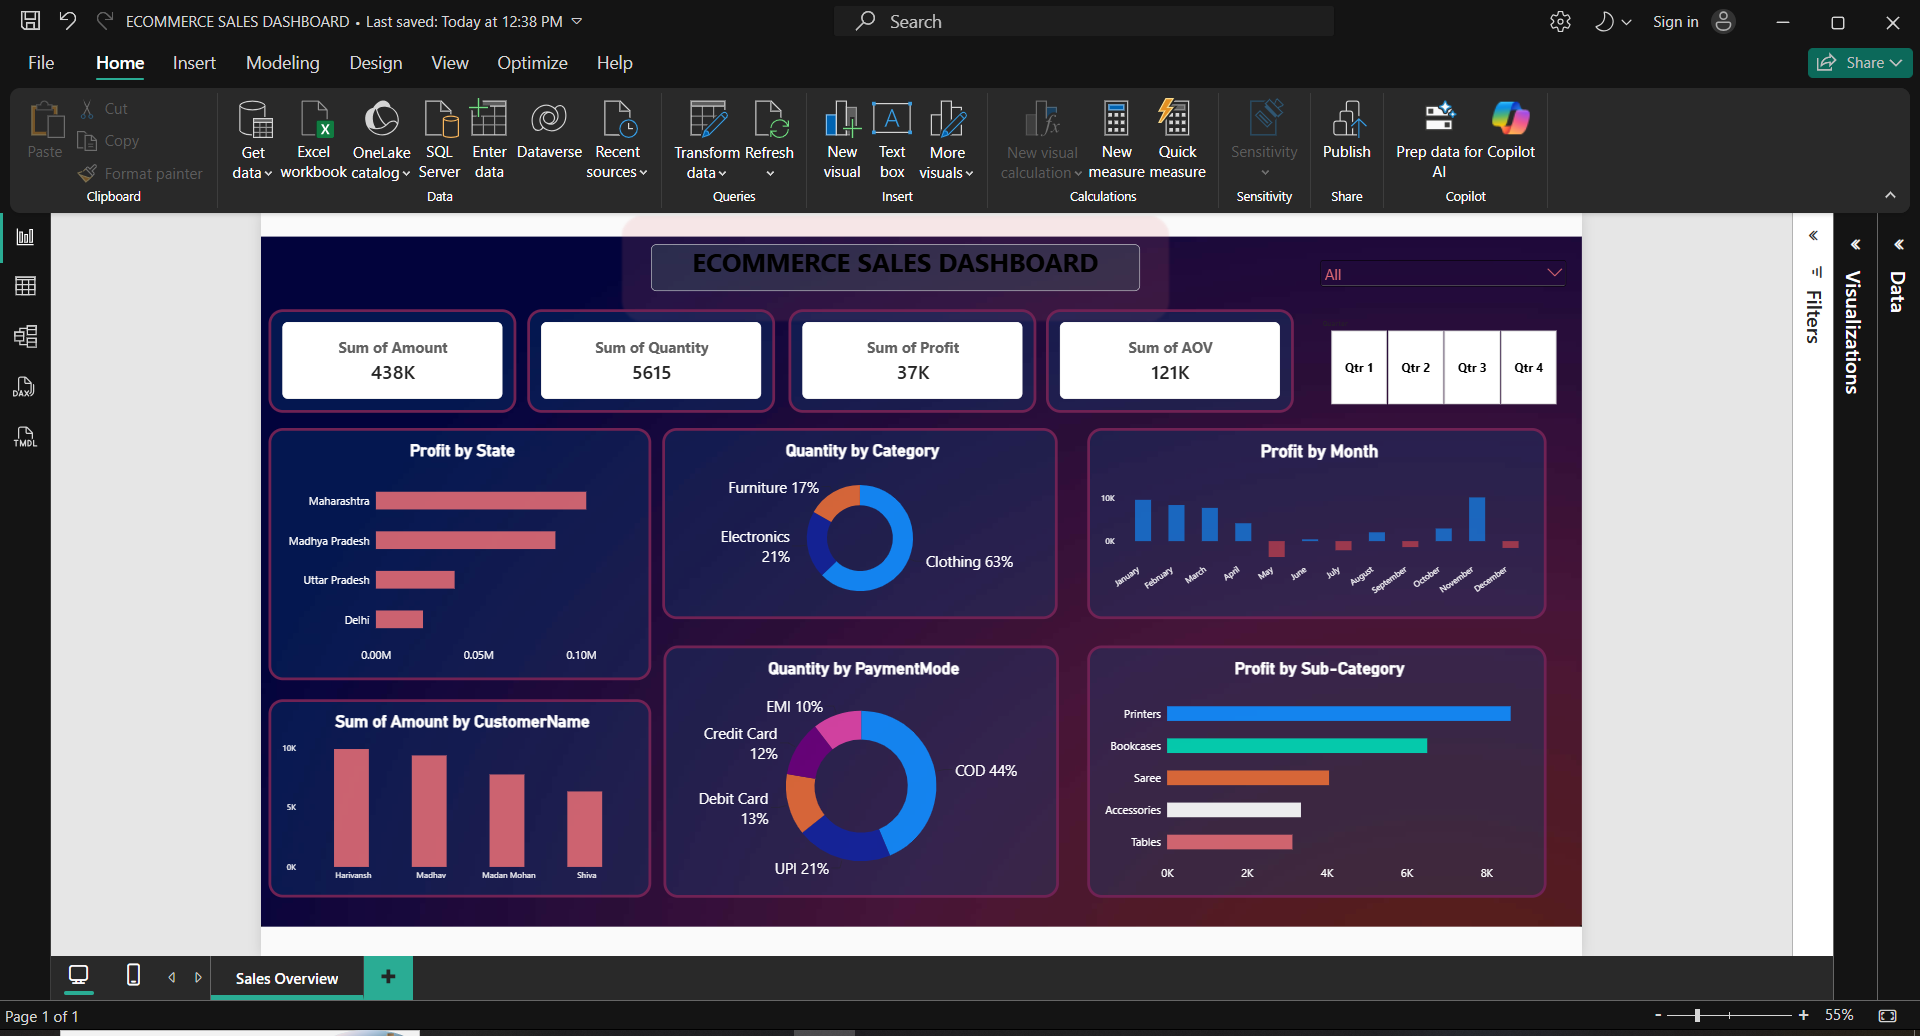

The page's visual inventory and layout, read from the dashboard file:
{"tool":"powerbi","page":{"name":"Sales Overview","canvas":[1920,1080],"ordinal":0},"visuals":[{"type":"textbox","box":[10.9,0,457.6,279.6],"z":0},{"type":"textbox","box":[566,45.3,710.1,67.9],"z":1000},{"type":"columnChart","title":" Profit by Month","fields":{"Category":["Orders.Order Date.Variation.Date Hierarchy.Month"],"Y":["Sum(Details.Profit)"]},"box":[1200,312.9,666.9,277.9],"z":2000},{"type":"clusteredBarChart","title":"Profit by Sub-Category","fields":{"Category":["Details.Sub-Category"],"Y":["Sum(Details.Profit)"]},"box":[1200,627.8,666.9,366.4],"z":3000},{"type":"donutChart","title":"Quantity by Category","fields":{"Category":["Details.Category"],"Y":["Sum(Details.Quantity)"]},"box":[582.5,312.9,574.3,277.9],"z":4000},{"type":"donutChart","title":"Quantity by PaymentMode","fields":{"Category":["Details.PaymentMode"],"Y":["Sum(Details.Quantity)"]},"box":[584.6,627.8,574.3,366.4],"z":5000},{"type":"cardVisual","fields":{"Data":["Sum(Details.Amount)"]},"box":[10.3,140,360.2,150.3],"z":6000},{"type":"cardVisual","fields":{"Data":["Sum(Details.Quantity)"]},"box":[387,140,360.2,150.3],"z":7000},{"type":"cardVisual","fields":{"Data":["Sum(Details.Profit)"]},"box":[765.7,140,360.2,150.3],"z":8000},{"type":"cardVisual","fields":{"Data":["Sum(Details.AOV)"]},"box":[1140.3,140,360.2,150.3],"z":9000},{"type":"clusteredBarChart","title":"Profit by State","fields":{"Category":["Orders.State"],"Y":["Sum(Details.Amount)"]},"box":[10.3,312.9,555.7,366.4],"z":10000},{"type":"clusteredColumnChart","fields":{"Category":["Orders.CustomerName"],"Y":["Sum(Details.Amount)"]},"box":[10.3,706,555.7,288.2],"z":11000},{"type":"slicer","fields":{"Values":["Orders.Order Date.Variation.Date Hierarchy.Quarter"]},"box":[1533.5,154.4,366.4,125.6],"z":12000},{"type":"slicer","fields":{"Values":["Orders.State"]},"box":[1533.5,63.8,366.4,86.4],"z":12001}]}

Visuals, with their boxes on the page's 1920x1080 design canvas (x1, y1, x2, y2). These are canvas units, not pixel positions in the 1920x1036 screenshot, which may show the page scaled, cropped or inside an application window:
textbox: region(11, 0, 468, 280)
textbox: region(566, 45, 1276, 113)
" Profit by Month" columnChart: region(1200, 313, 1867, 591)
"Profit by Sub-Category" clusteredBarChart: region(1200, 628, 1867, 994)
"Quantity by Category" donutChart: region(582, 313, 1157, 591)
"Quantity by PaymentMode" donutChart: region(585, 628, 1159, 994)
cardVisual - Sum(Details.Amount): region(10, 140, 370, 290)
cardVisual - Sum(Details.Quantity): region(387, 140, 747, 290)
cardVisual - Sum(Details.Profit): region(766, 140, 1126, 290)
cardVisual - Sum(Details.AOV): region(1140, 140, 1500, 290)
"Profit by State" clusteredBarChart: region(10, 313, 566, 679)
clusteredColumnChart - Orders.CustomerName x Sum(Details.Amount): region(10, 706, 566, 994)
slicer - Orders.Order Date.Variation.Date Hierarchy.Quarter: region(1534, 154, 1900, 280)
slicer - Orders.State: region(1534, 64, 1900, 150)
